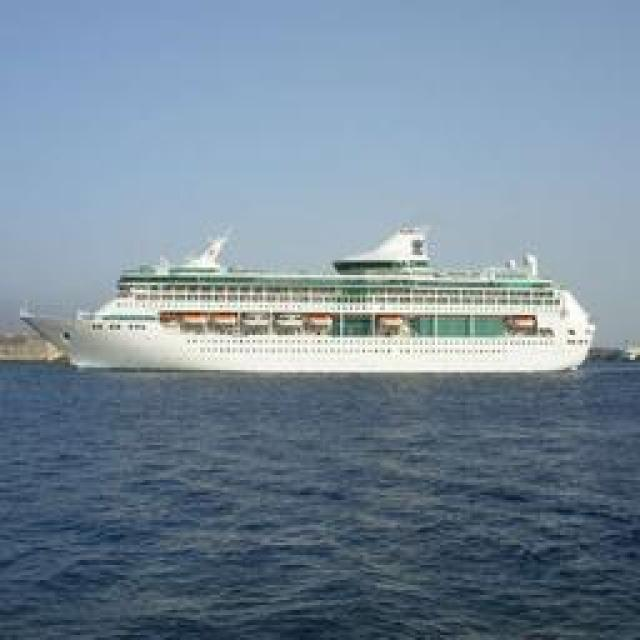CIV_Ship: (22, 256, 592, 379)
